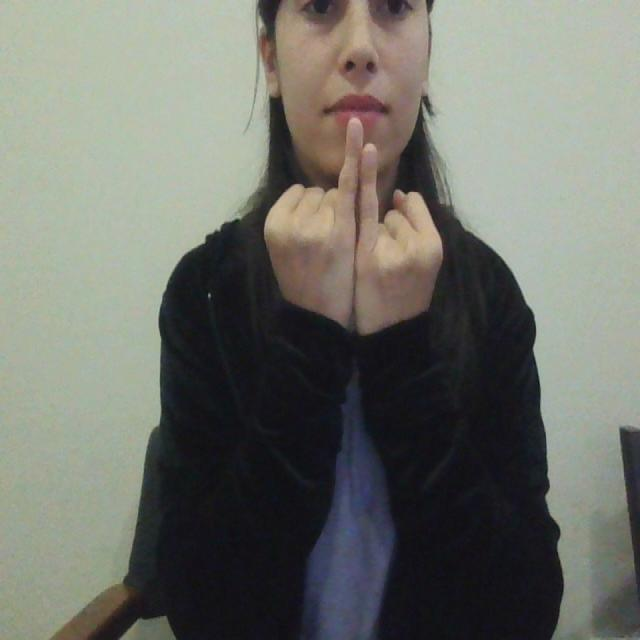Kardes: (260, 111, 450, 346)
